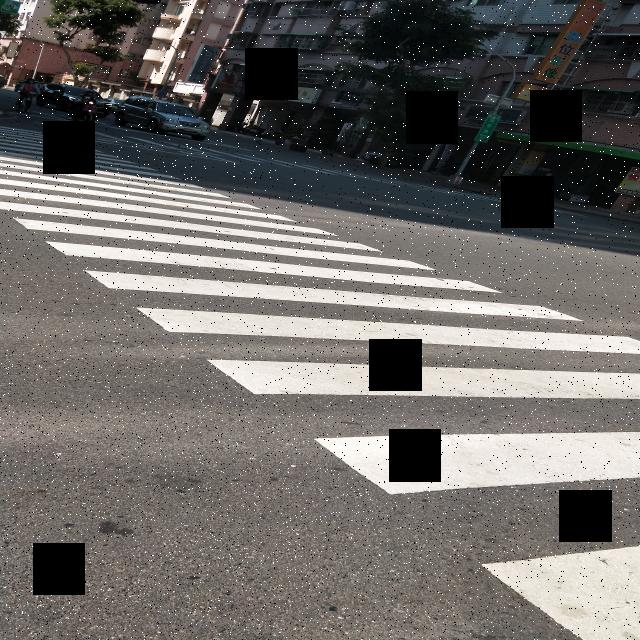zebra crossing: (0, 118, 640, 640), (38, 122, 586, 217)
